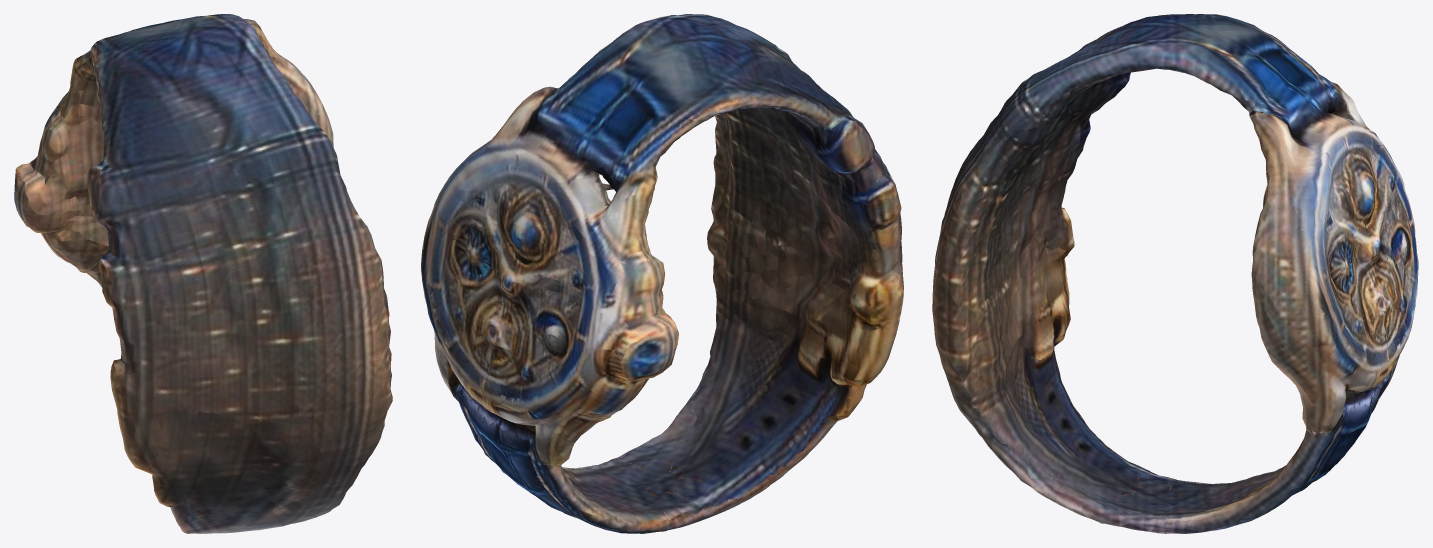
3 views of the same model, side by side, from view 1: azimuth 30°, elevation 25°; view 2: azimuth 150°, elevation 25°; view 3: azimuth 270°, elevation 25° (orthographic). The views are drawn at different scales.
Visible parts, largest first — view 1: world; view 2: world; view 3: world.
Boxes of the visible parts, x1,y1,x2,y2 form: world: (14, 14, 392, 533); world: (421, 14, 903, 533); world: (932, 14, 1418, 533).
Size of the model in its own units: 0.6857 by 0.9262 by 0.8603.
Materials: 1 (1 with a texture image).
